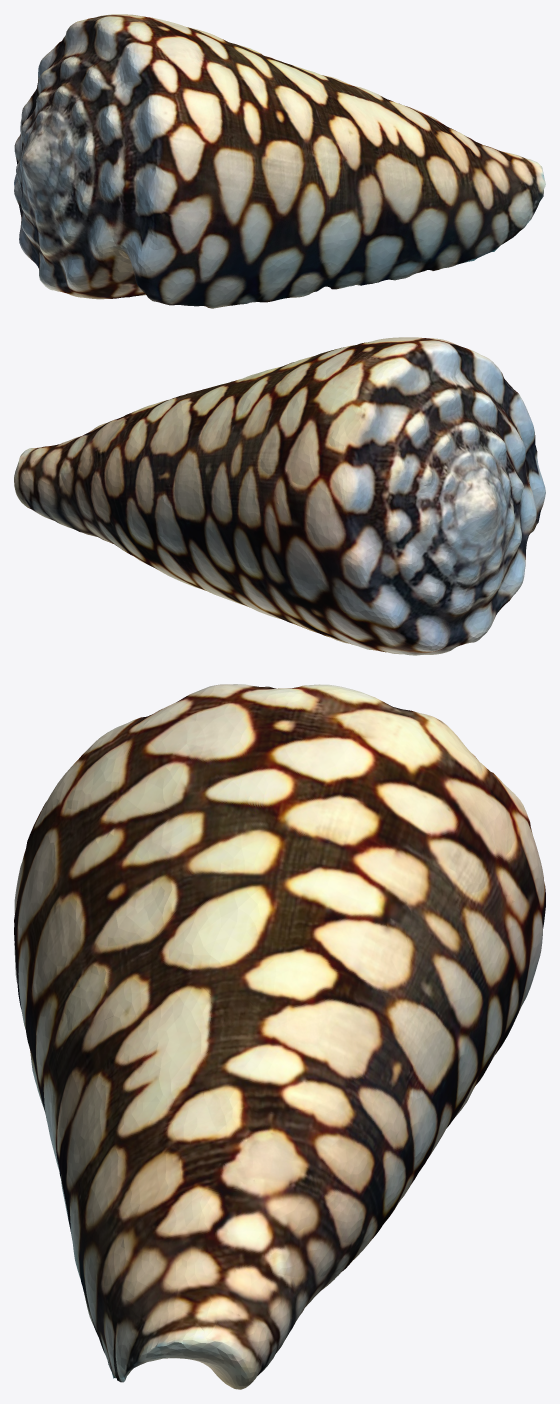
Rendered from MarbleCone.glb.
The picture shows the model from 3 angles, top to bottom: view 1: azimuth 30°, elevation 25°; view 2: azimuth 150°, elevation 25°; view 3: azimuth 270°, elevation 25°; orthographic projection. The views are drawn at different scales.
Size of the model in its own units: 0.0791 by 0.0418 by 0.0456.
Materials: 1 (1 with a texture image).
